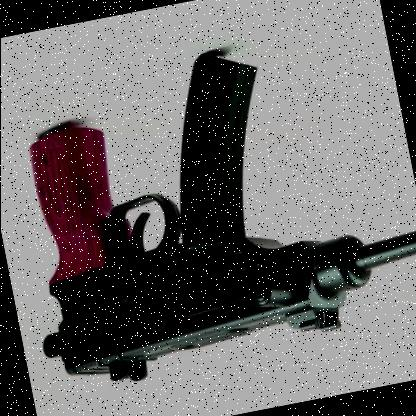rifle: (8, 28, 416, 399)
